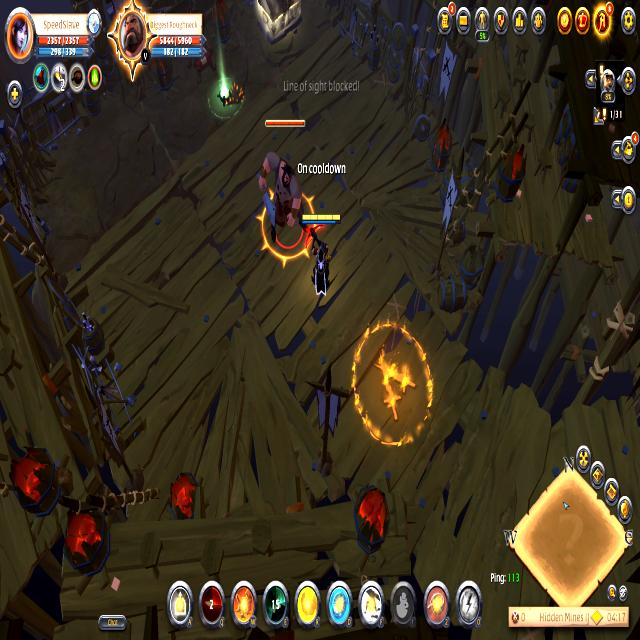ore: (253, 108, 324, 278)
red: (300, 208, 344, 304)
